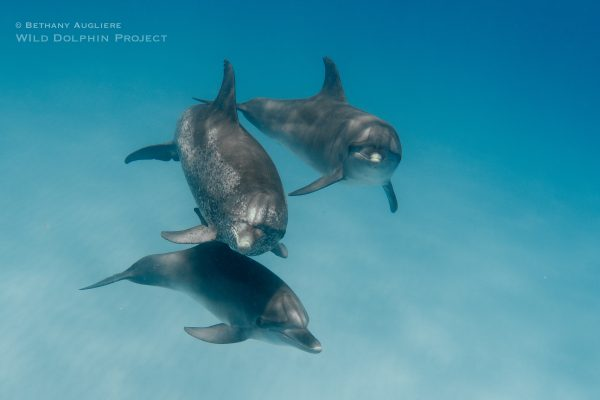dolphin: (104, 75, 298, 260), (61, 241, 331, 363), (205, 70, 450, 204)
